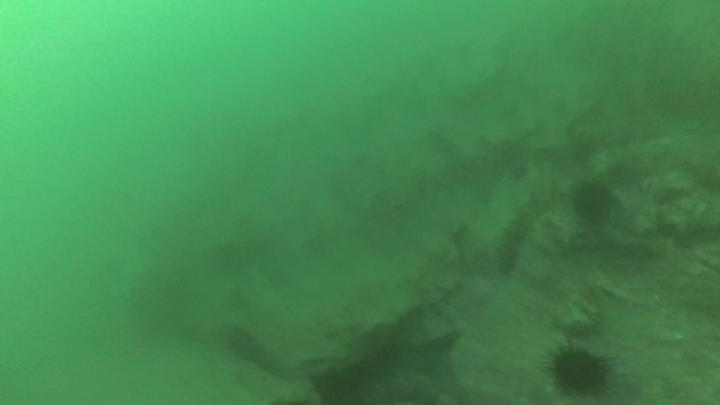echinus: (555, 350, 608, 397), (573, 185, 614, 221)
